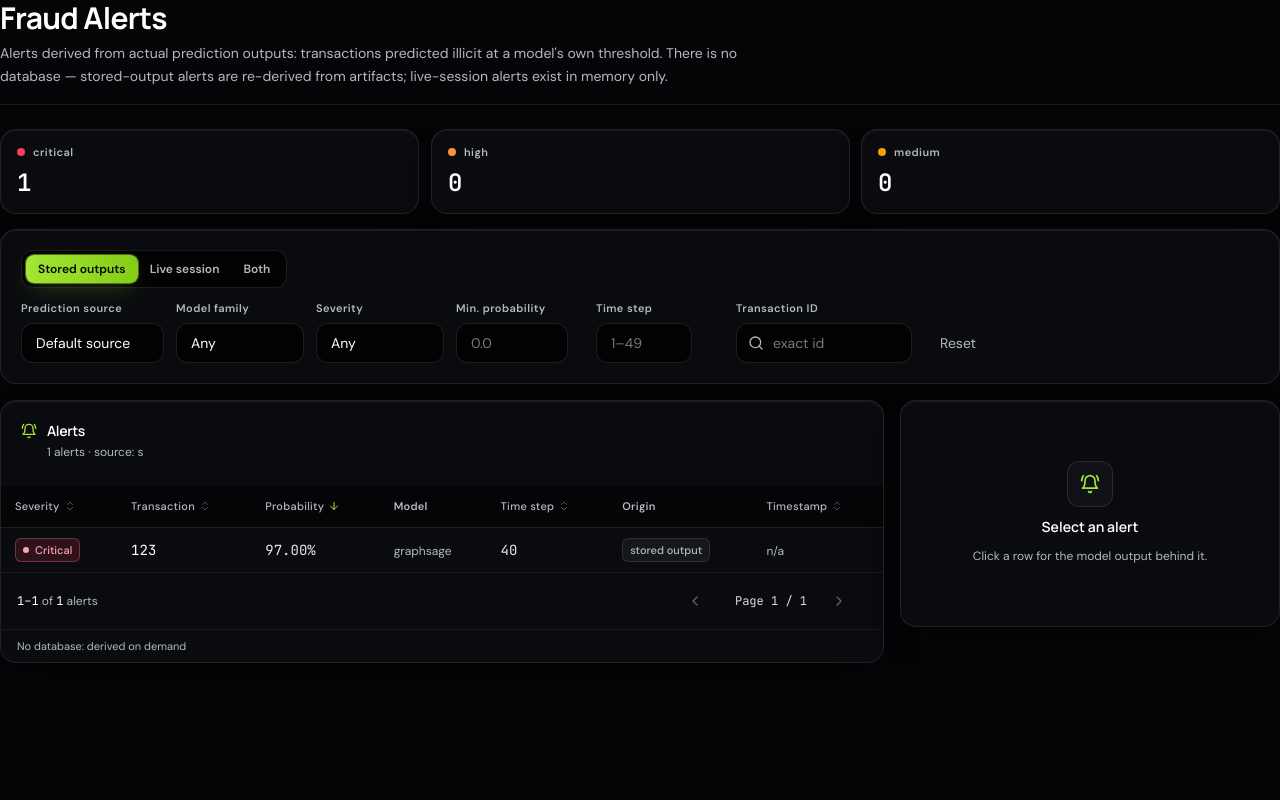
Test case: AlertsPage › lists real alert rows, severity counts and opens details
The image size is (1280, 800).
expect the text "97.00%" is shown: met, box left=265, top=540, right=316, bottom=558
Click the text "123". click: (144, 550)
box: left=131, top=540, right=156, bottom=558
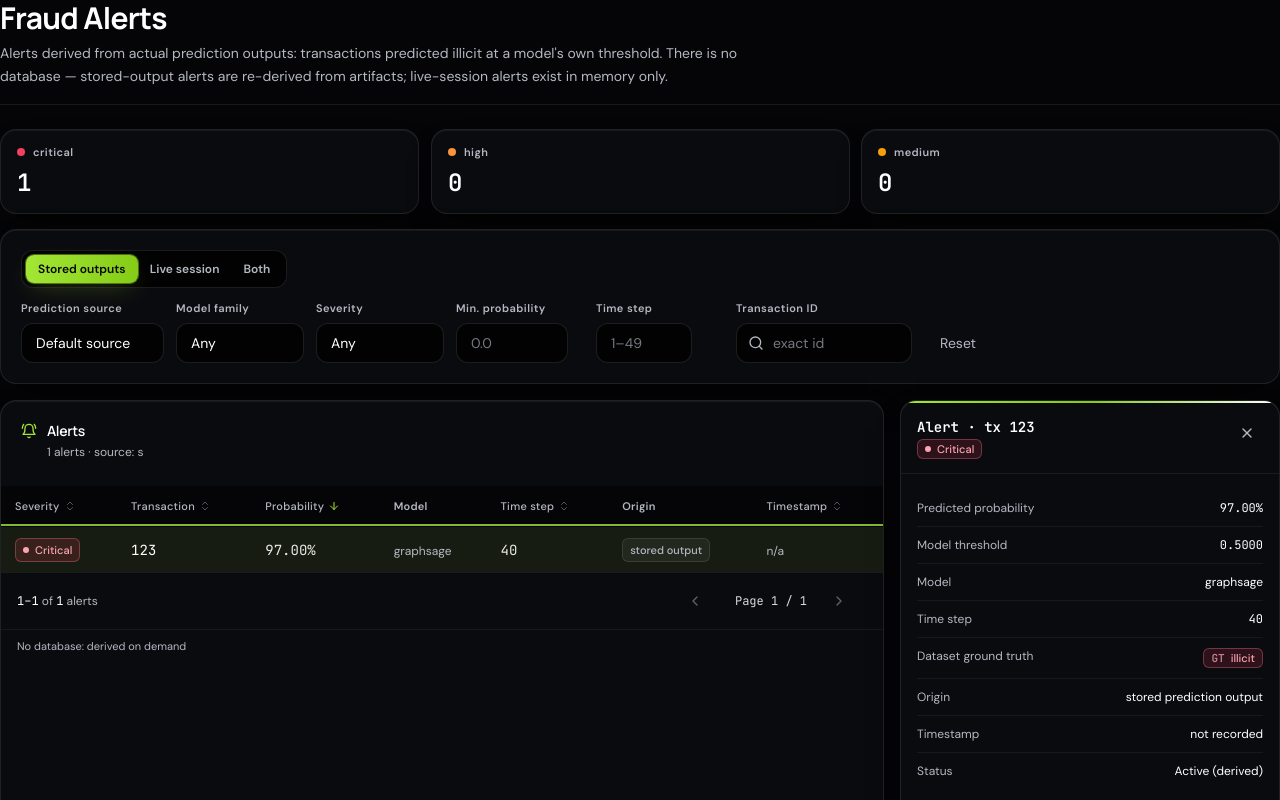
expect the text "Alert · tx 123" is shown: met, box left=917, top=418, right=1035, bottom=436
expect the text "not recorded" is shown: met, box left=1190, top=726, right=1263, bottom=742
